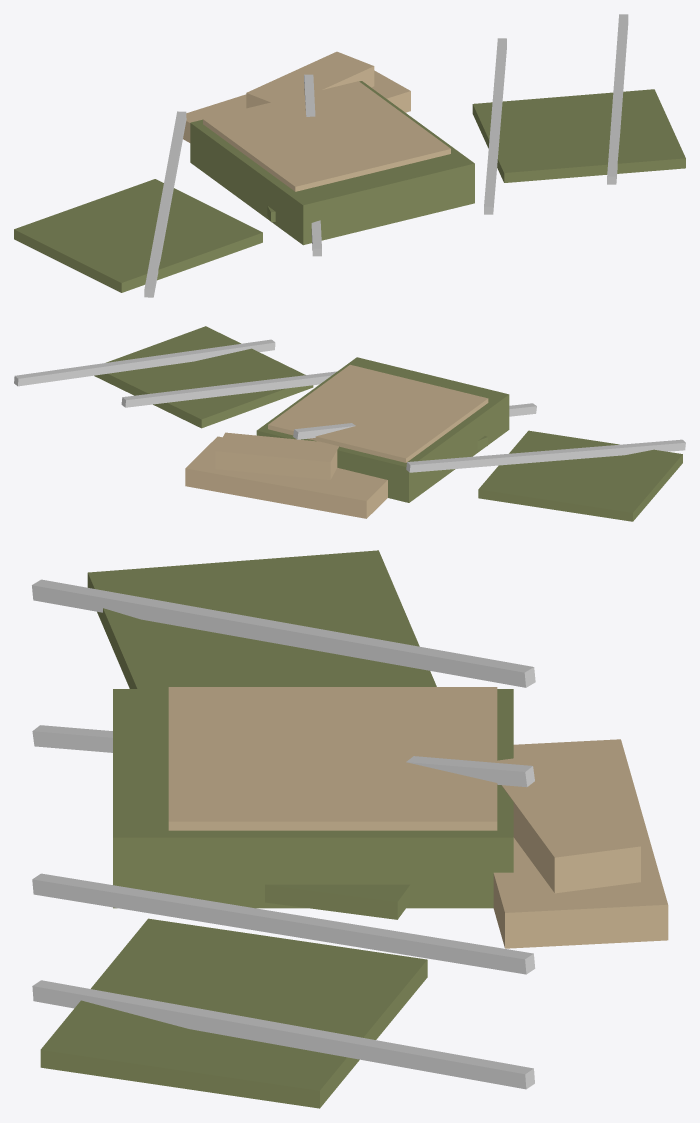
File: SM_HescoCorto1_v0_MallaLimpia_e3_Brecha_LOD0.fbx
3 renders of one model, top to bottom at view 1: azimuth 30°, elevation 25°; view 2: azimuth 150°, elevation 25°; view 3: azimuth 270°, elevation 25°, orthographic. The views are drawn at different scales.
Parts seen in each view (by area): view 1: SM_hesco_piezas_v43_LOD0; view 2: SM_hesco_piezas_v43_LOD0; view 3: SM_hesco_piezas_v43_LOD0.
Boxes of the visible parts, x1=… form: SM_hesco_piezas_v43_LOD0: x1=14, y1=14, x2=685, y2=297; SM_hesco_piezas_v43_LOD0: x1=14, y1=326, x2=685, y2=521; SM_hesco_piezas_v43_LOD0: x1=32, y1=550, x2=668, y2=1108.
Size of the model in its own units: 4.09 by 0.3263 by 1.94.
